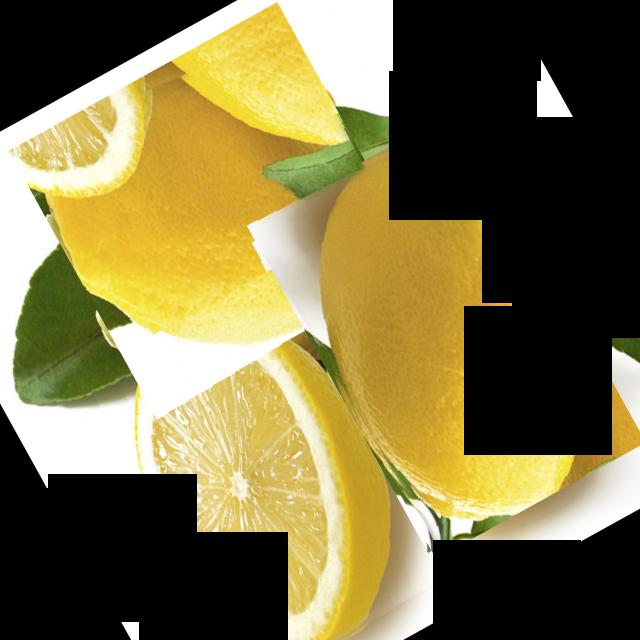lemon: (247, 107, 640, 560), (9, 2, 427, 421), (70, 268, 451, 640)
